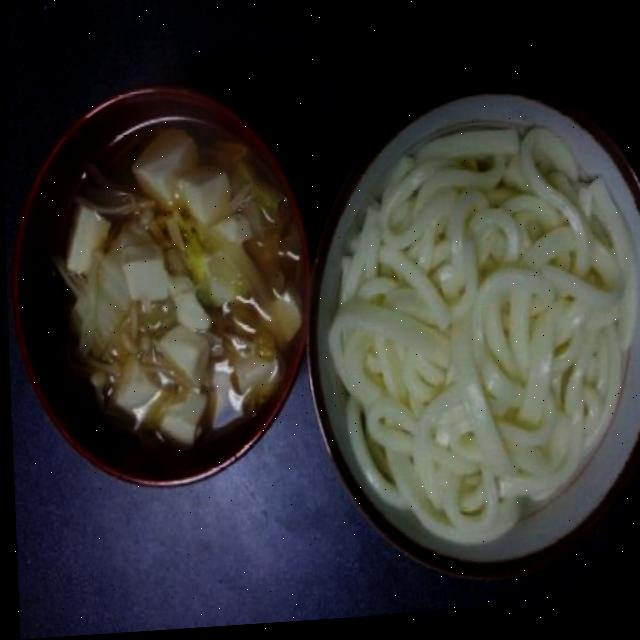汤锅炖物: (13, 77, 319, 537)
面条主食: (307, 54, 640, 598)
